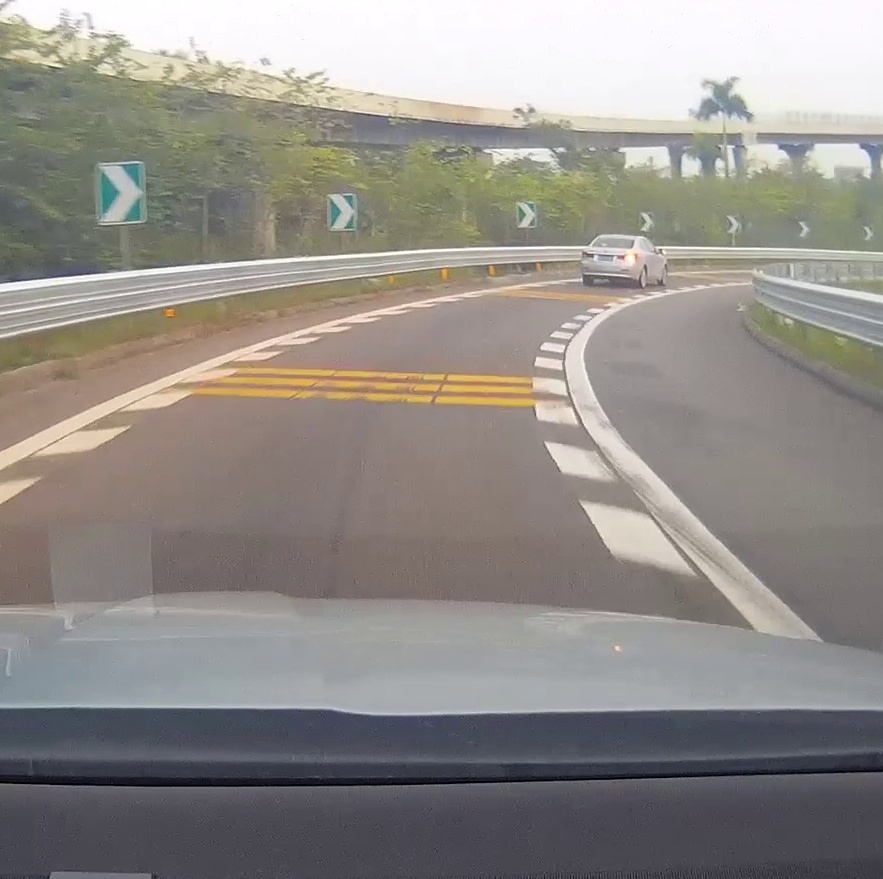L_light: (581, 251, 594, 259)
R_light: (617, 253, 637, 261)
T_light: (611, 238, 621, 240)
day-right: (579, 234, 641, 286)
